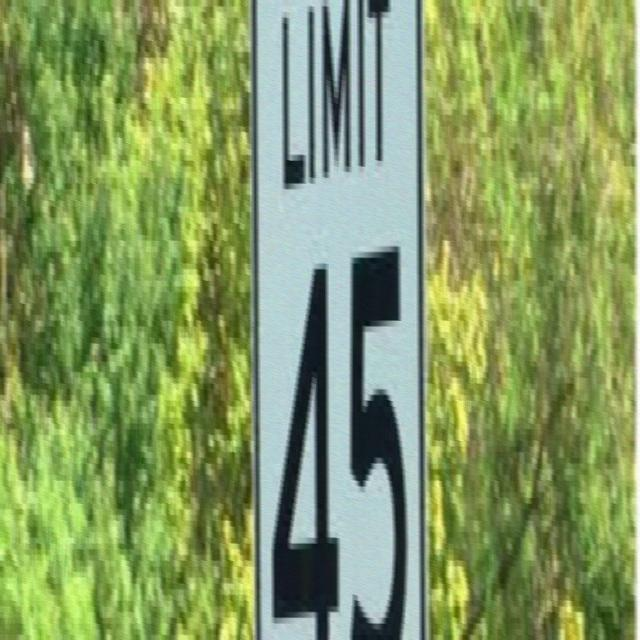speedLimit45: (248, 9, 432, 632)
